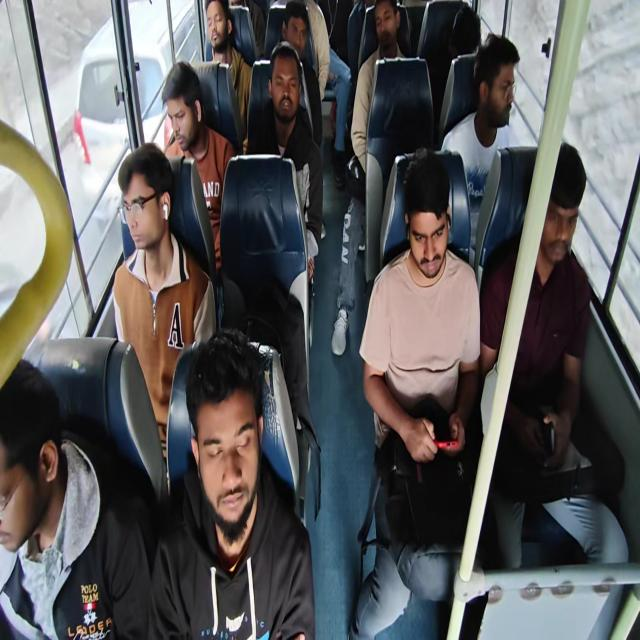person: (174, 339, 298, 611), (104, 152, 207, 317), (0, 369, 76, 574), (514, 126, 600, 266), (401, 182, 479, 320), (257, 38, 324, 163), (150, 57, 206, 161), (447, 25, 495, 86), (473, 32, 511, 108), (317, 0, 355, 75), (198, 0, 242, 61), (278, 9, 316, 67), (382, 8, 411, 62)
